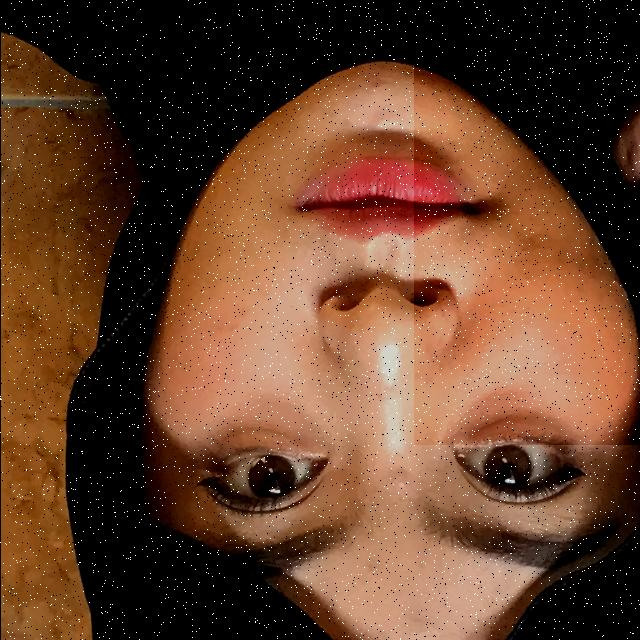ibu: (413, 0, 640, 444)
